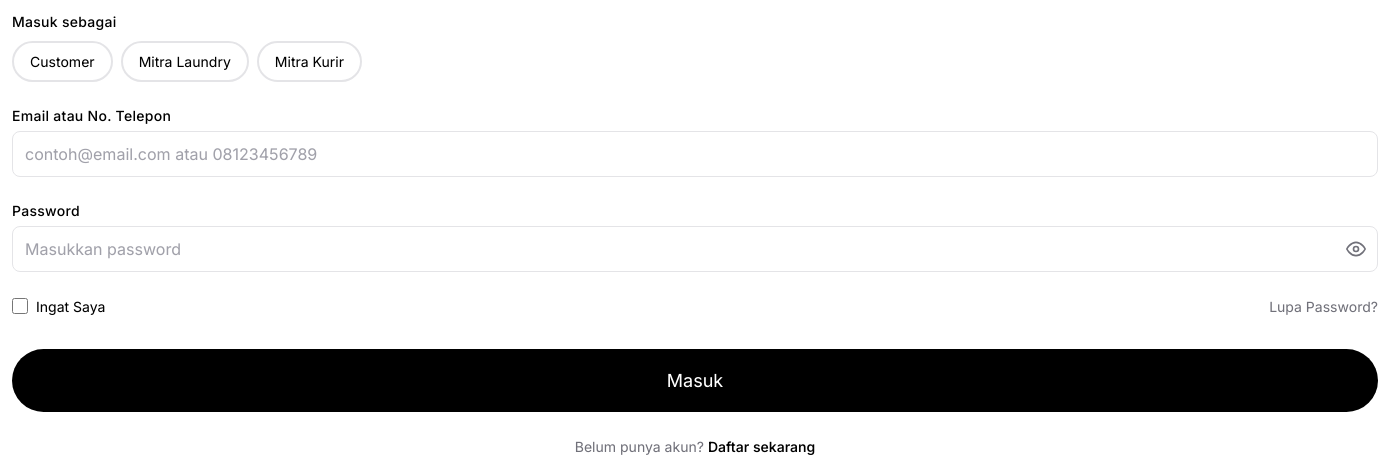
Scenario: LoginForm › role selection › shows 'Masuk sebagai Mitra Laundry' when seller is selected
Click the button "Mitra Laundry".
click(185, 61)  # box [121,41,249,82]
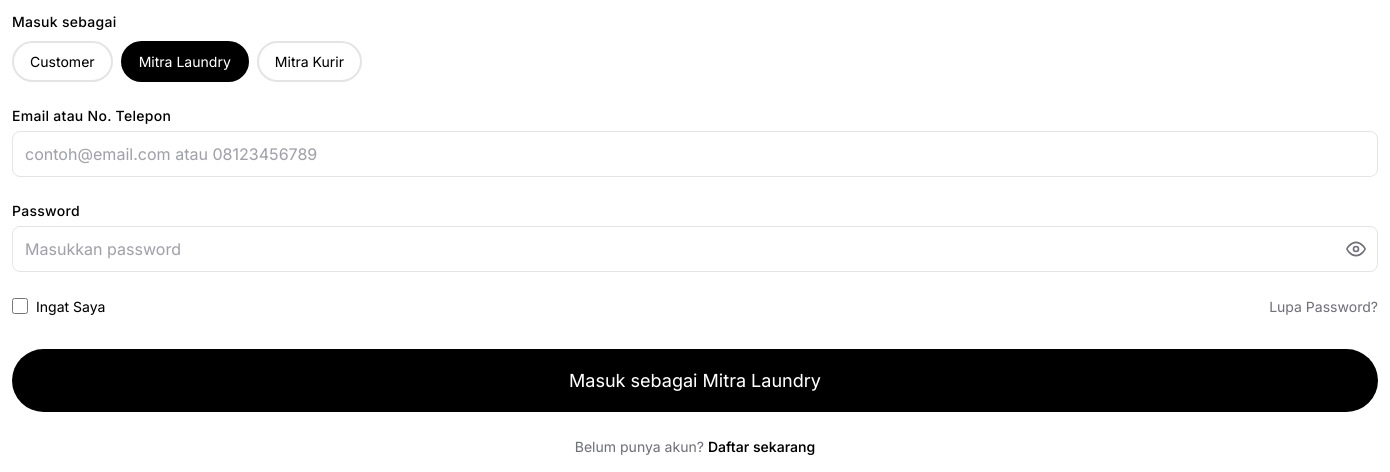
Check: the button "Masuk sebagai Mitra Laundry" is shown, box [12,349,1378,412]
